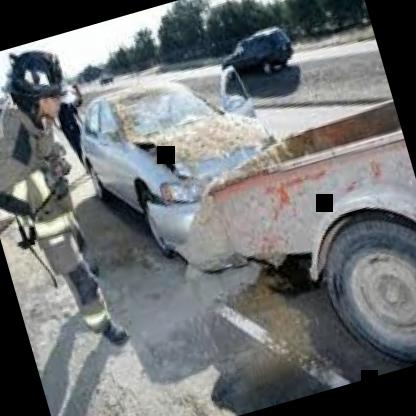accident: (61, 13, 416, 349)
